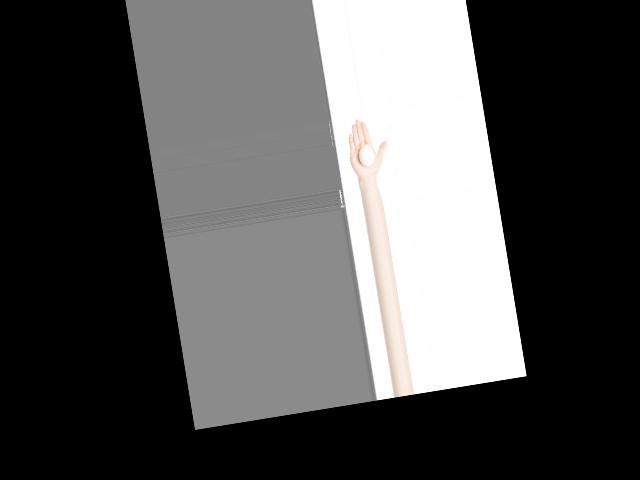egg: (357, 144, 375, 167)
